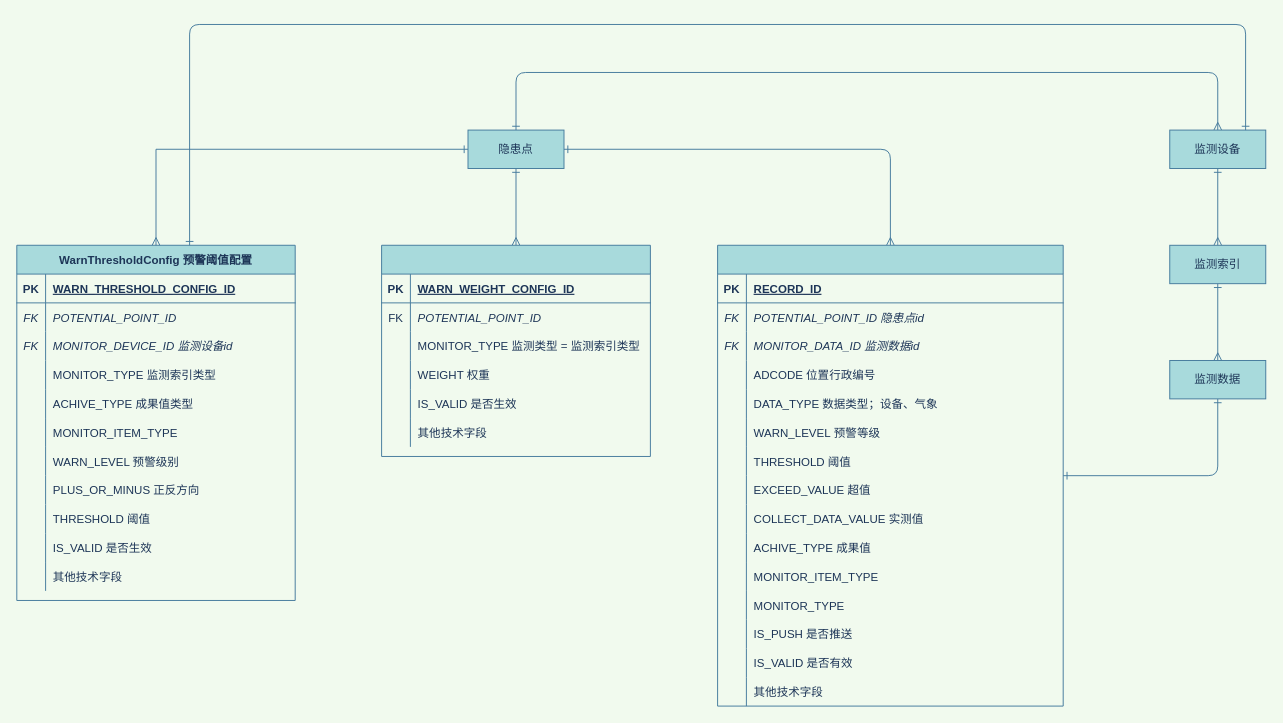
This 1283x723 diagram has some shape labels left out. Each missing label, with the box of its shape:
WarnDataExceedThresholdRecord 预警数据过阈值记录表: (717, 244, 1063, 706)
WarnWeightConfig 预警权重配置: (381, 244, 650, 456)
